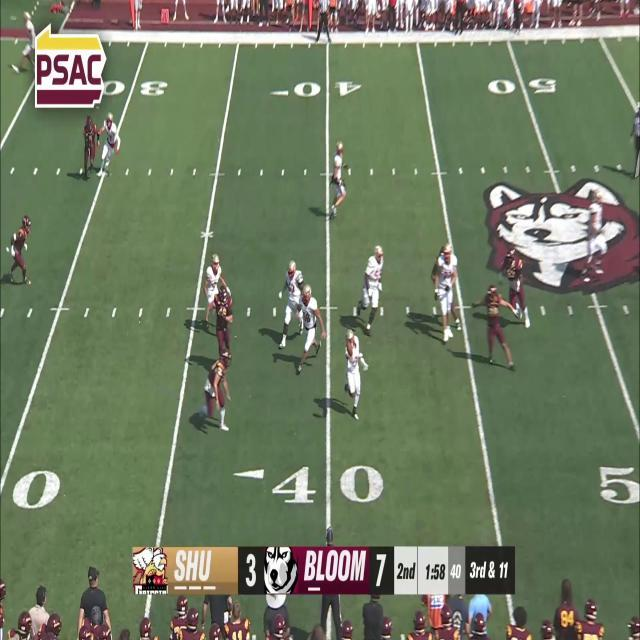football: (346, 340, 354, 357)
